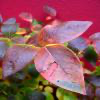Blueberry leaf: (34, 43, 90, 96), (37, 20, 93, 46), (1, 43, 39, 81)
